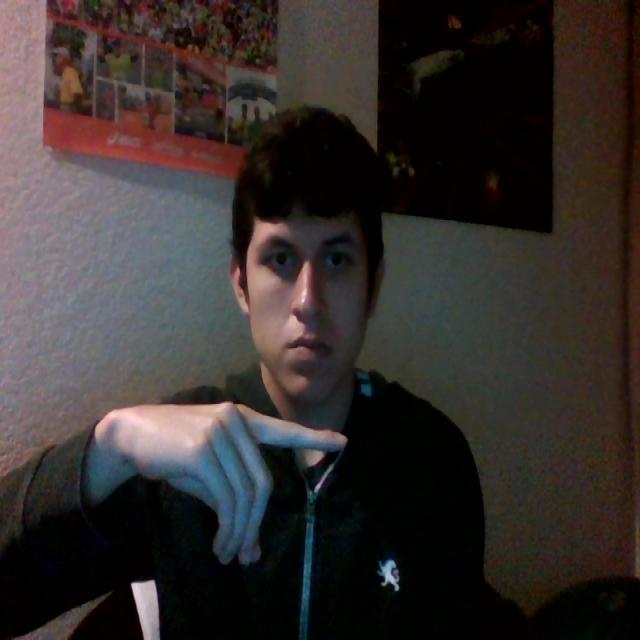P: (65, 356, 355, 590)
